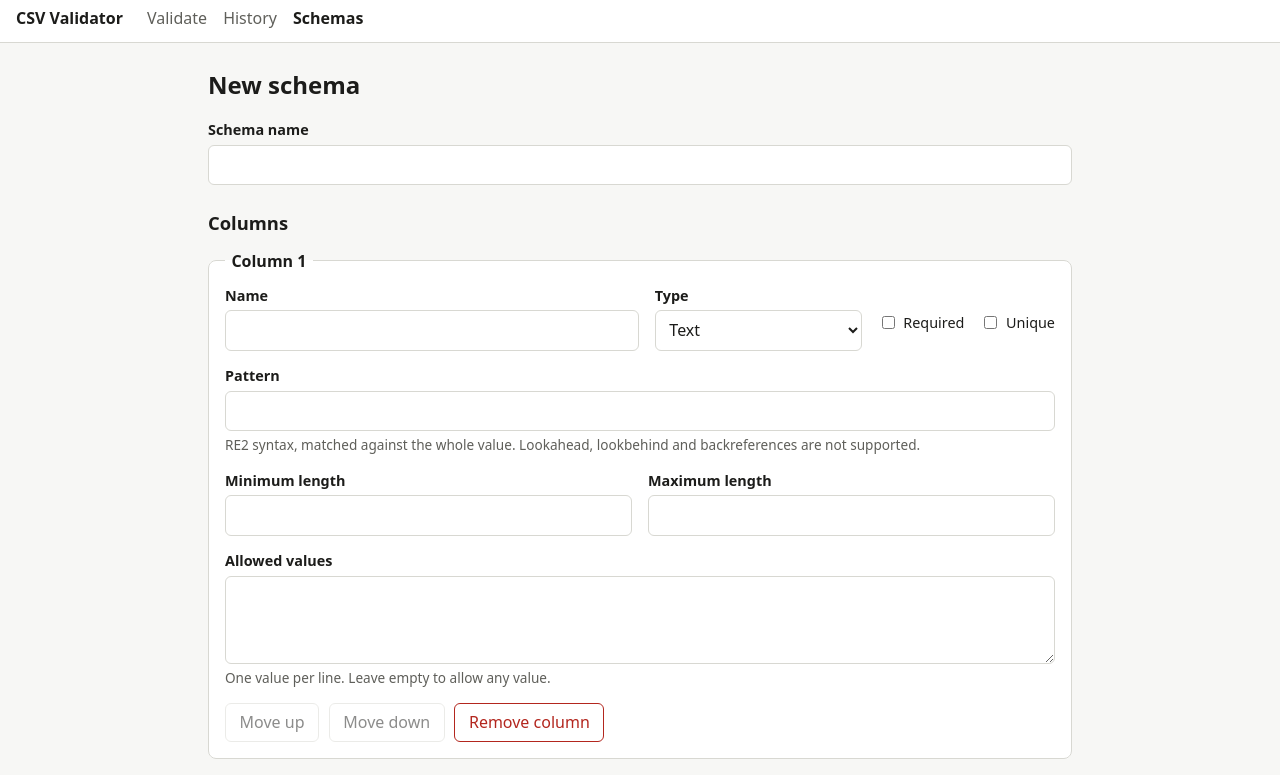
SchemaEditor: columns › removes a column and renumbers the rest
Type "alpha" into the field labelled "Name".
click(432, 330); type("alpha")  # box [225, 310, 639, 351]
(page scrolled)
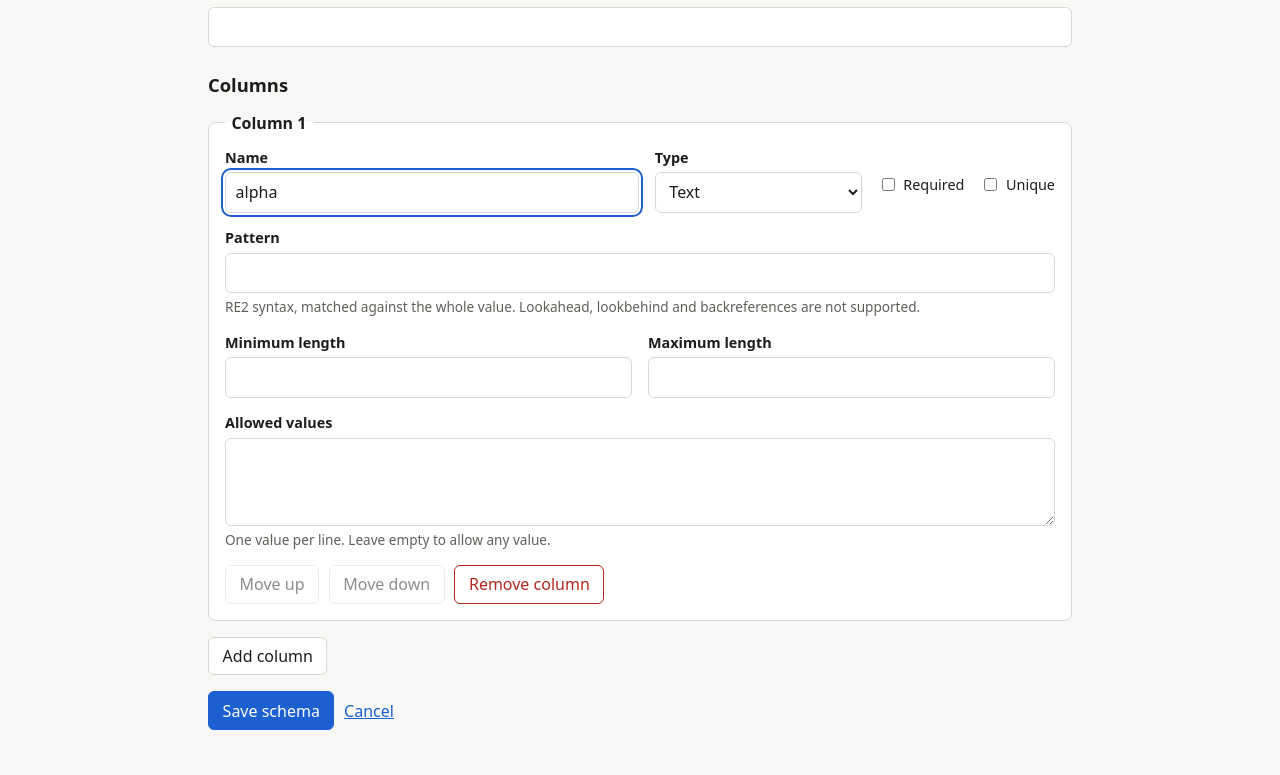
Click the button "Add column".
click(268, 656)  # box [208, 637, 328, 676]
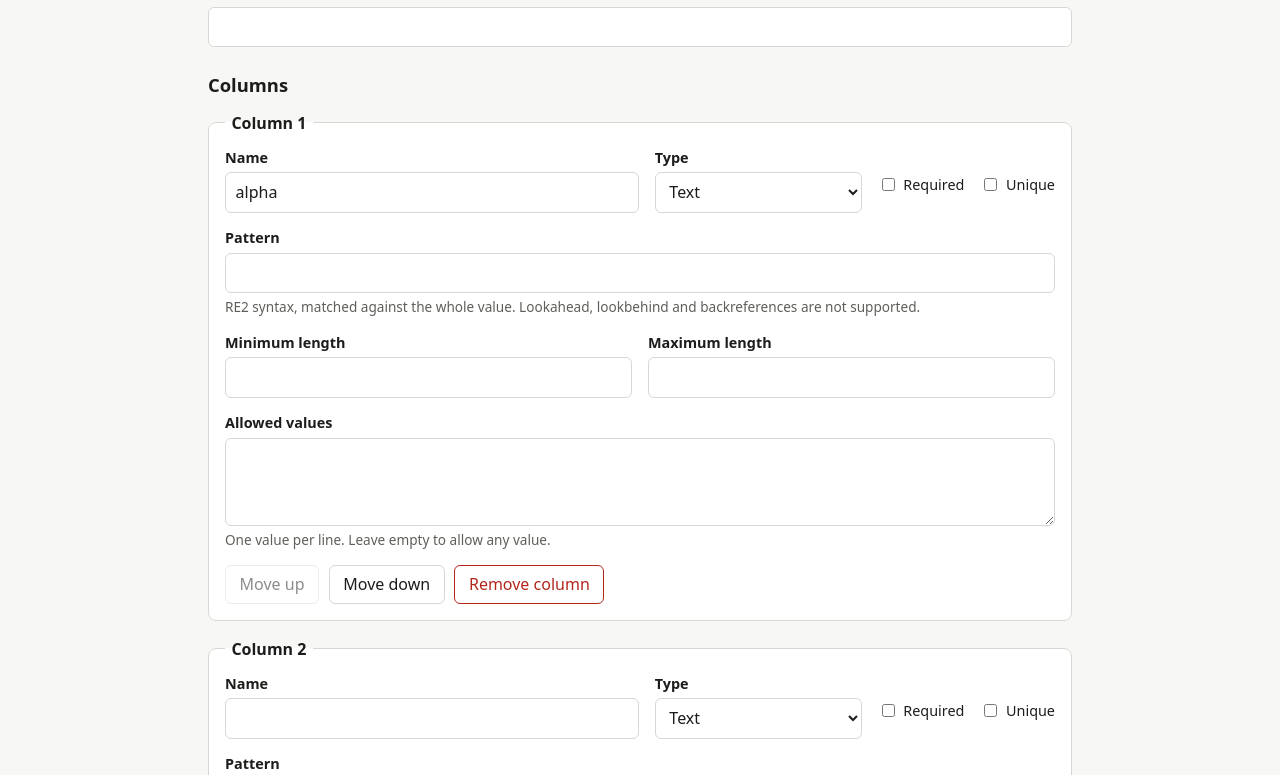
Type "beta" into the field labelled "Name" below "Column 2".
click(432, 718); type("beta")  # box [225, 698, 639, 739]
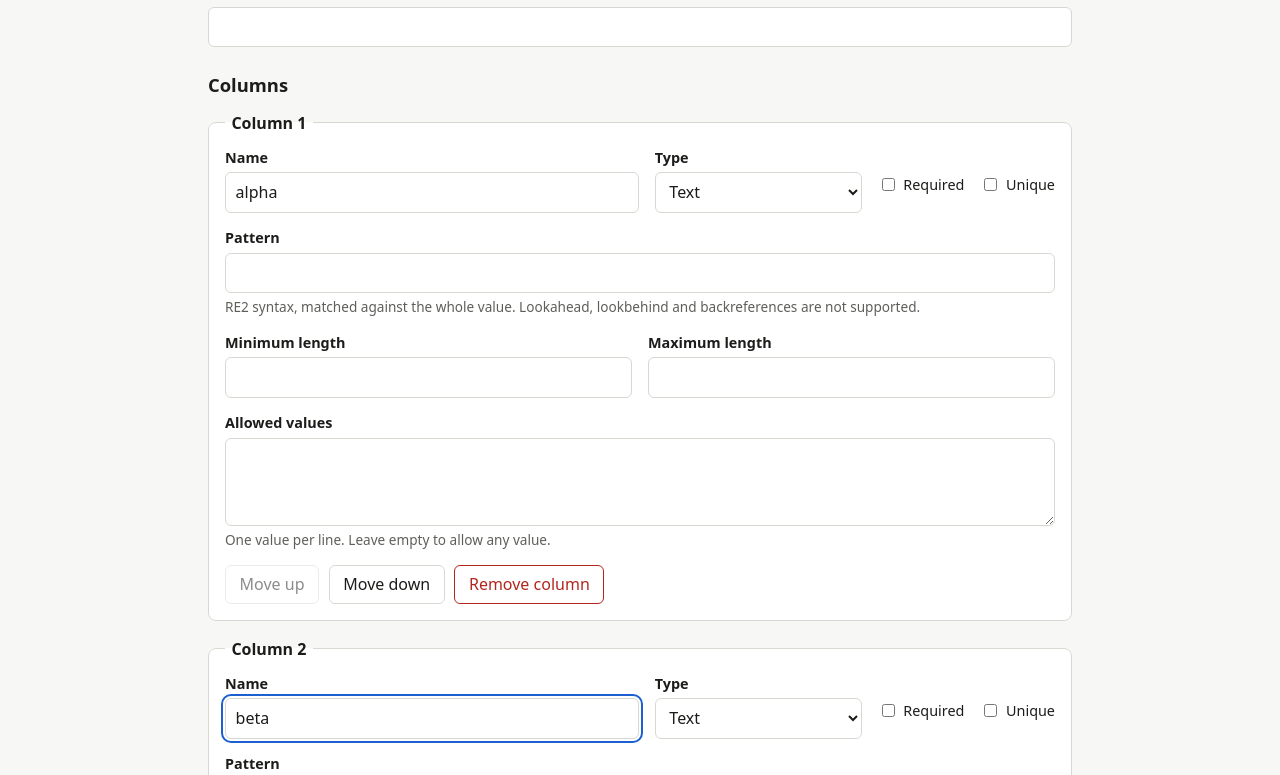
Click the button "Remove column".
click(529, 584)  # box [454, 565, 604, 604]
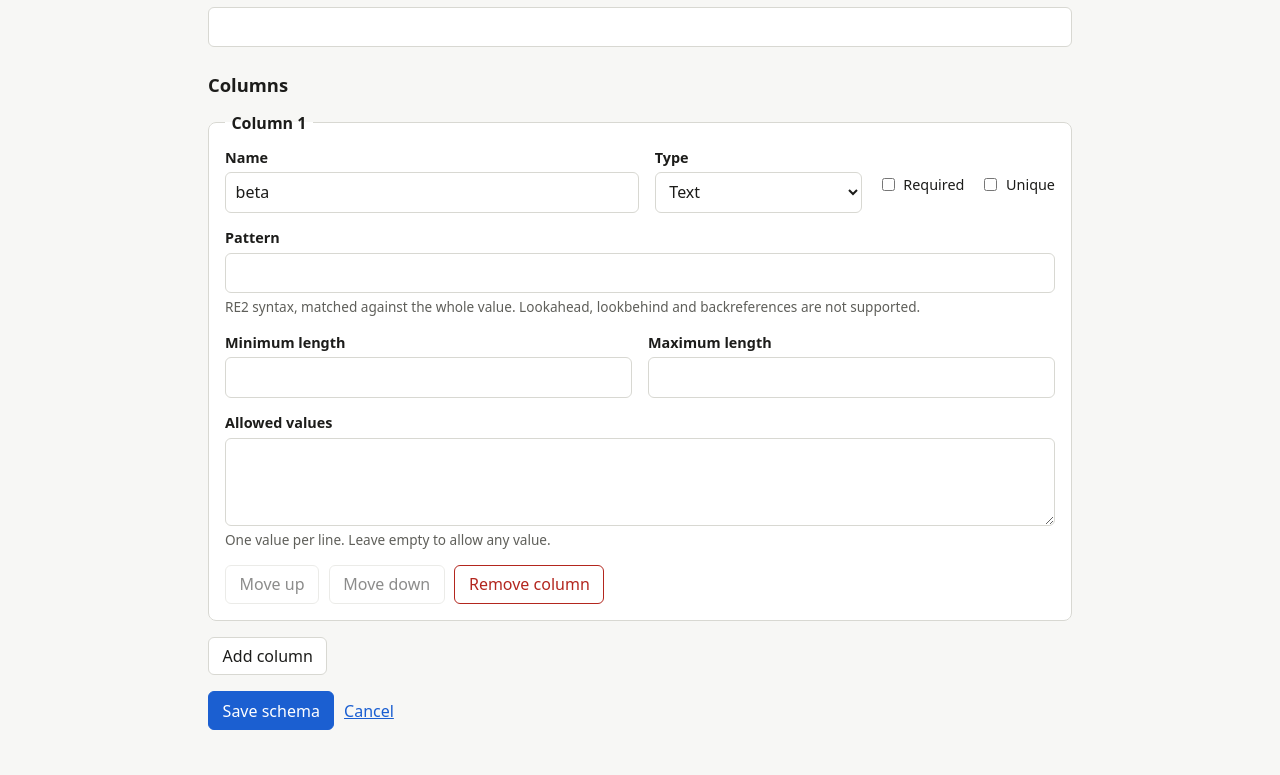
Now the text "Column 2" is gone
